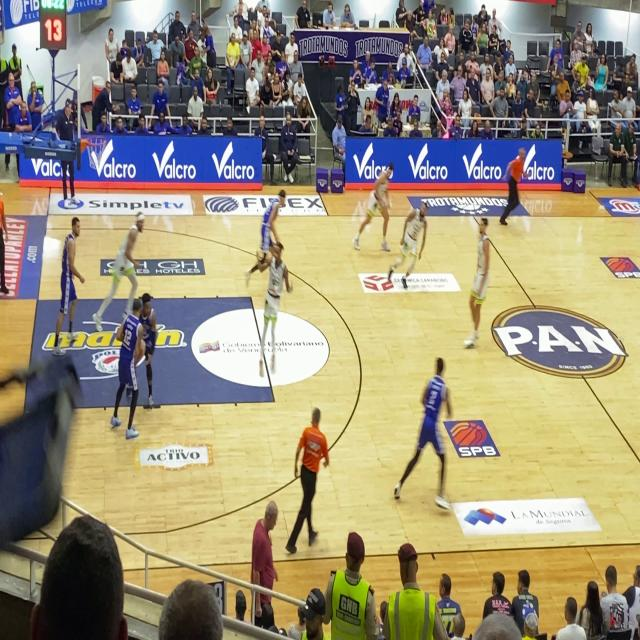Ball: (418, 353, 451, 511), (137, 332, 147, 367)
referee: (293, 402, 332, 554), (0, 187, 10, 313)
team1: (106, 206, 146, 314), (263, 246, 290, 383), (469, 218, 488, 353), (373, 154, 393, 248), (408, 196, 428, 288), (508, 144, 526, 229)
team2: (115, 294, 140, 434), (57, 215, 77, 345), (145, 291, 158, 408), (406, 256, 408, 260)
ubasket: (84, 133, 108, 173)
